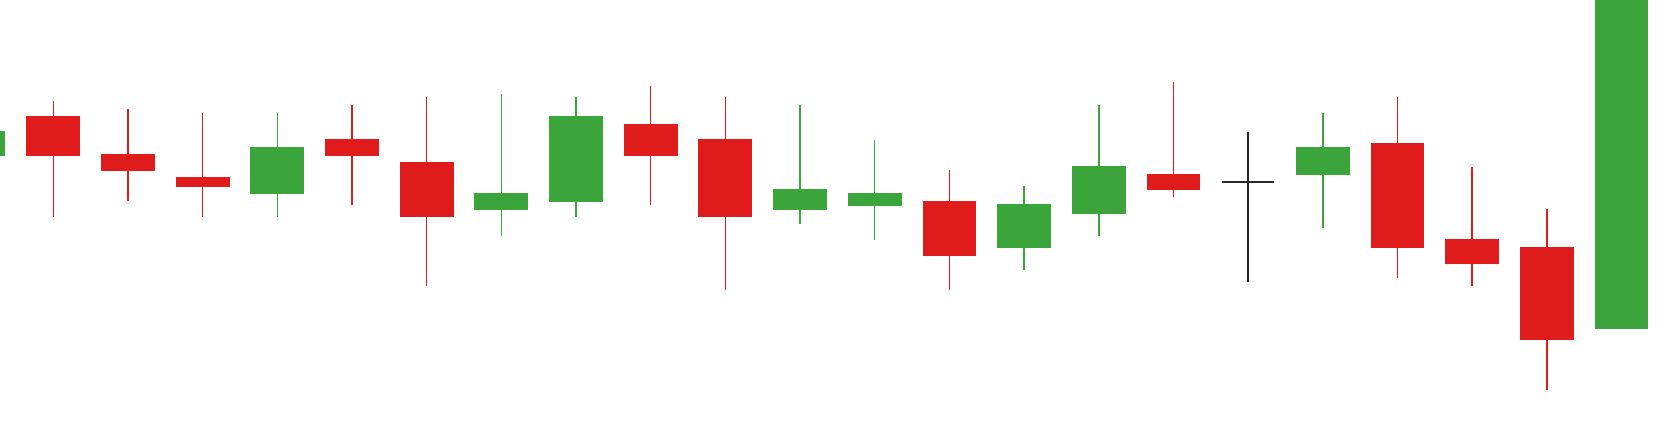buy: (1216, 92, 1653, 407)
